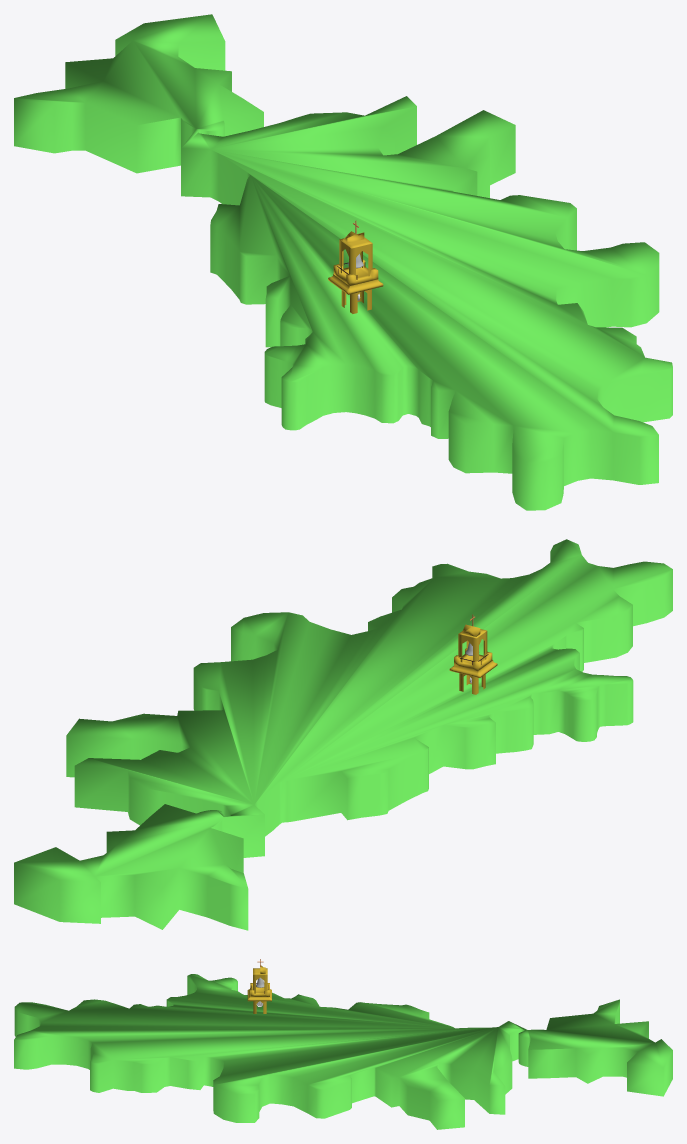
Rendered from basilica.glb.
3 renders of one model, top to bottom at view 1: azimuth 30°, elevation 25°; view 2: azimuth 150°, elevation 25°; view 3: azimuth 270°, elevation 25°, orthographic. The views are drawn at different scales.
Parts seen in each view (by area): view 1: mapa, Cube.003; view 2: mapa, Cube.003; view 3: mapa.
Part boxes in pixels (x1,y1,x2,y2): mapa: [14, 14, 672, 510]; Cube.003: [339, 237, 372, 276]; mapa: [14, 539, 672, 930]; Cube.003: [458, 629, 487, 662]; mapa: [14, 974, 672, 1129].
Bounding box in the file's own units: 5.53 × 1.64 × 12.11.
6 materials, 1 textured.
